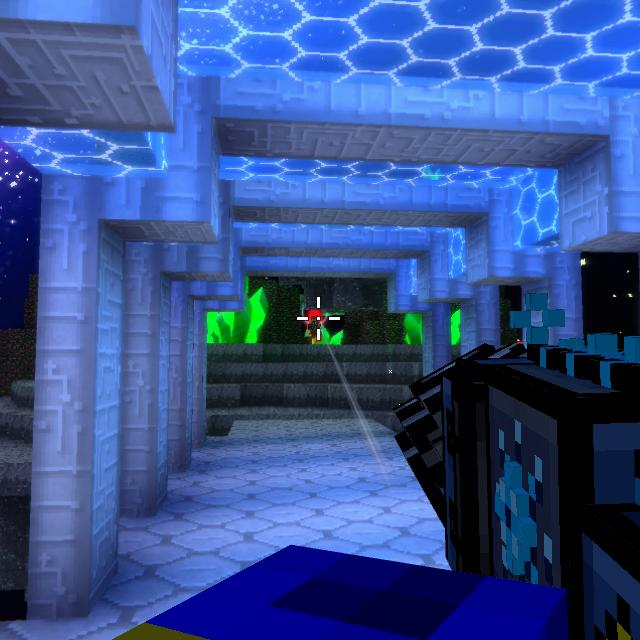Enemy: (308, 315, 322, 339)
